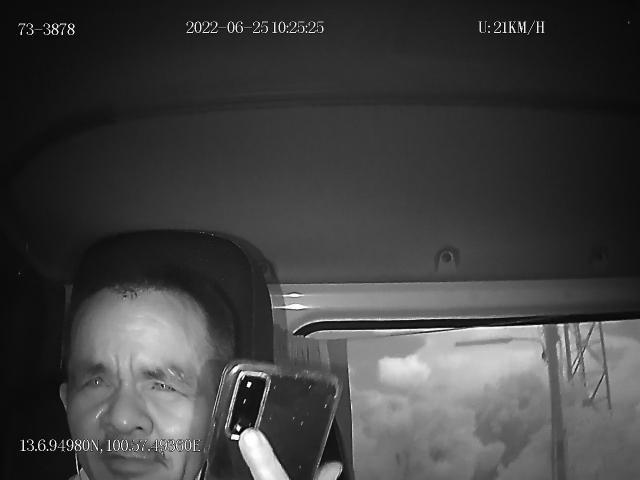PhoneUse: (203, 358, 343, 480)
SafeDriving: (142, 365, 190, 402), (75, 364, 116, 399)
